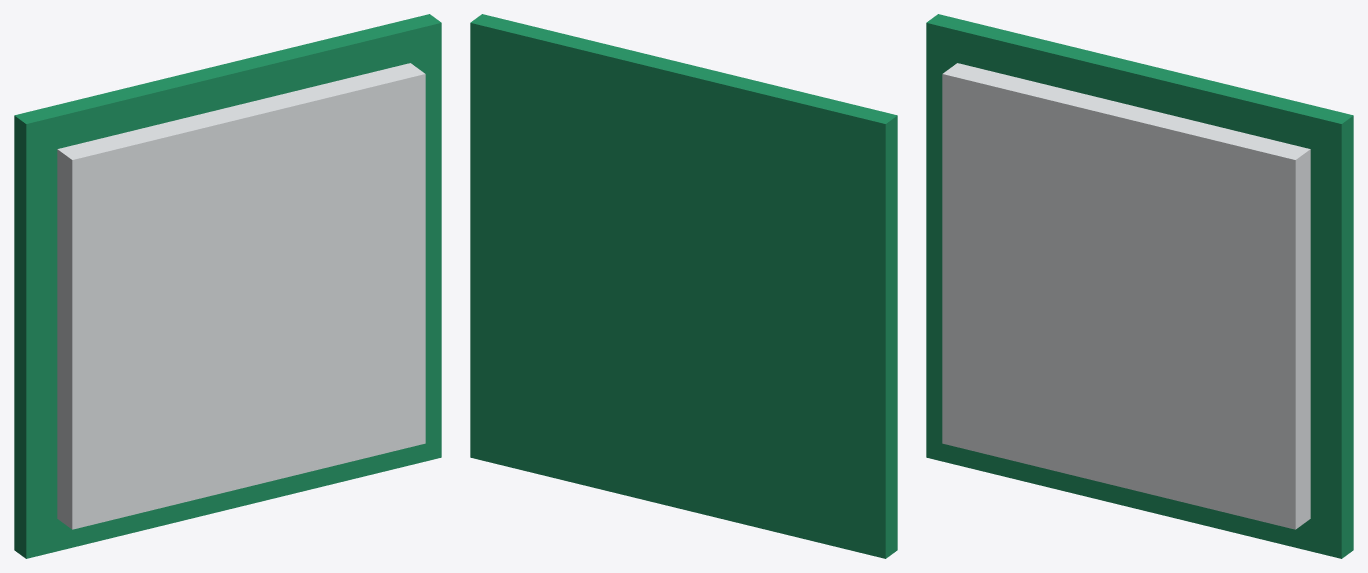
The model's file is cpu.glb.
3 renders of one model, left to right at view 1: azimuth 30°, elevation 25°; view 2: azimuth 150°, elevation 25°; view 3: azimuth 330°, elevation 25°, orthographic.
Visible parts, largest first — view 1: CpuIHS, CpuSubstrate; view 2: CpuSubstrate; view 3: CpuIHS, CpuSubstrate.
Part boxes in pixels (box(x1,y1,x2,y2)): CpuIHS: box(57, 63, 425, 529); CpuSubstrate: box(14, 14, 441, 558); CpuSubstrate: box(470, 14, 897, 558); CpuIHS: box(942, 63, 1310, 529); CpuSubstrate: box(926, 14, 1353, 558).
Bounding box in the file's own units: 0.8 × 0.8 × 0.09.
